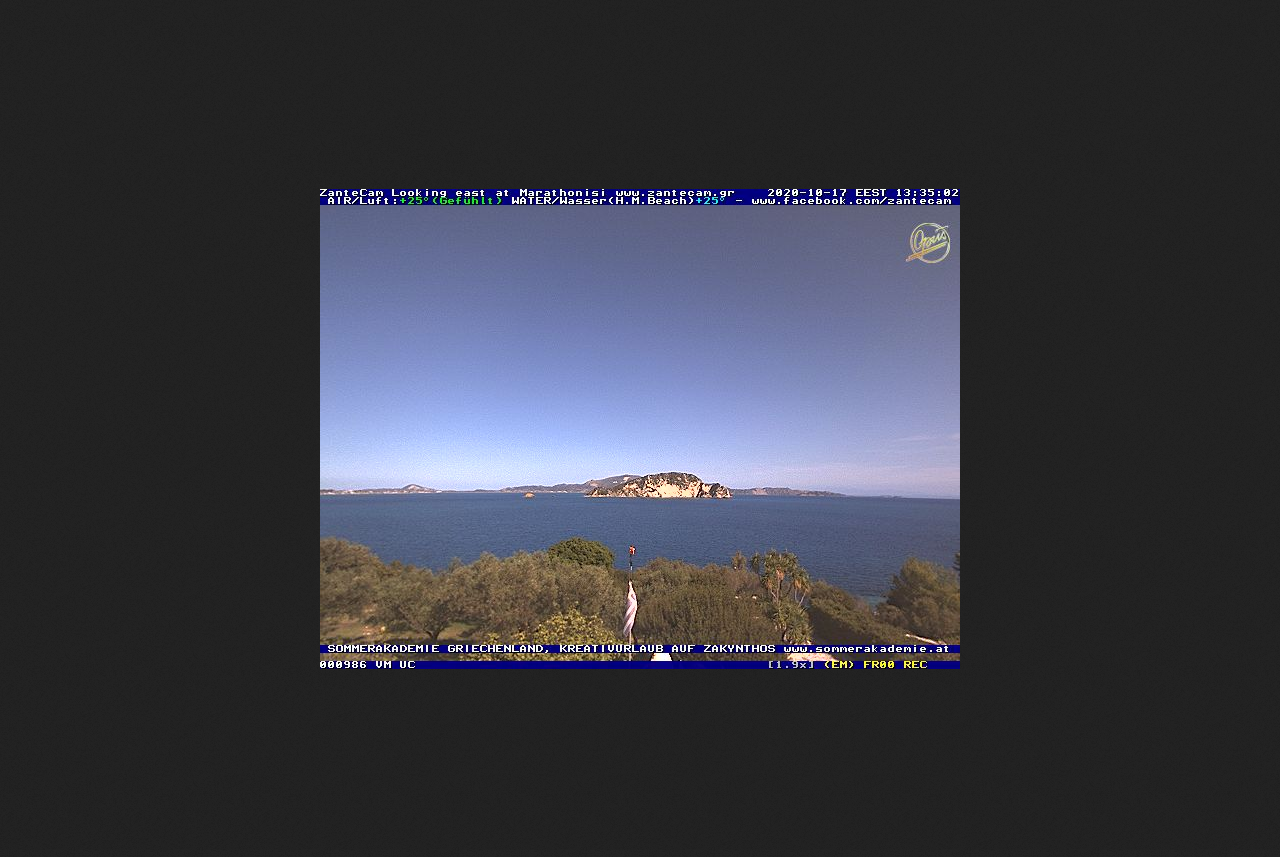no: (616, 582, 640, 645)
